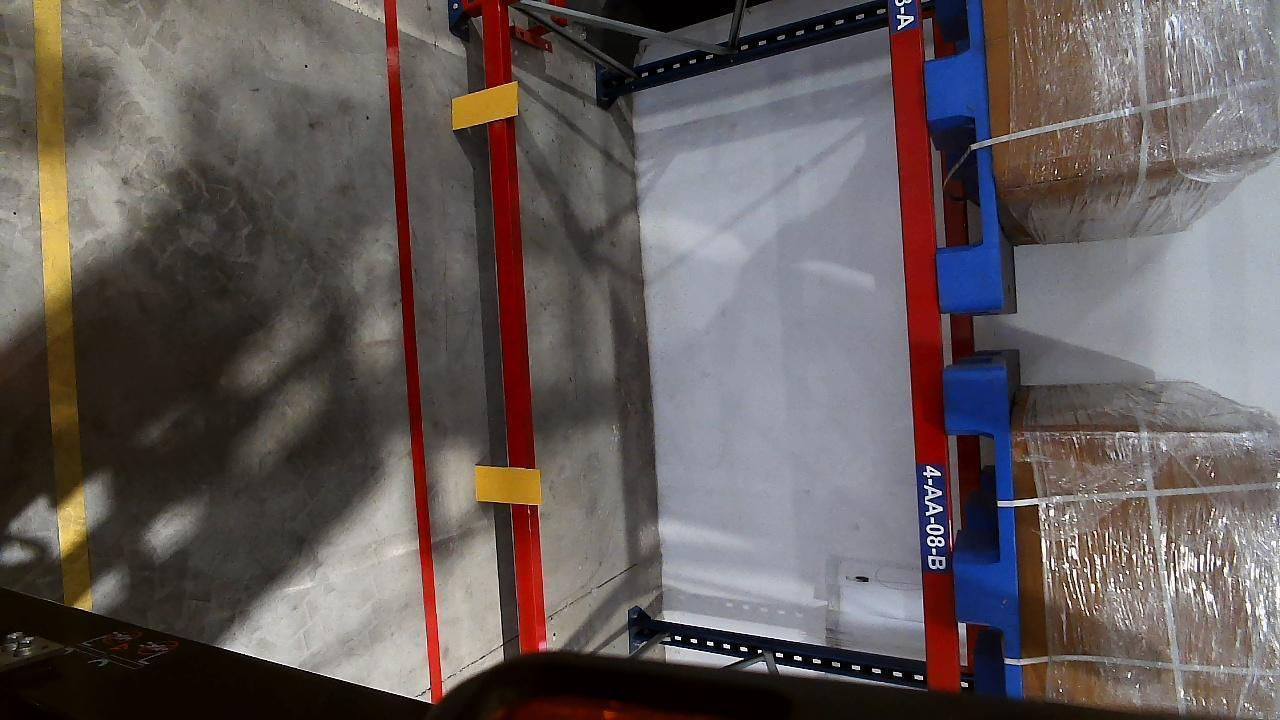red_line: (373, 0, 452, 687)
yellow_line: (17, 0, 104, 597)
